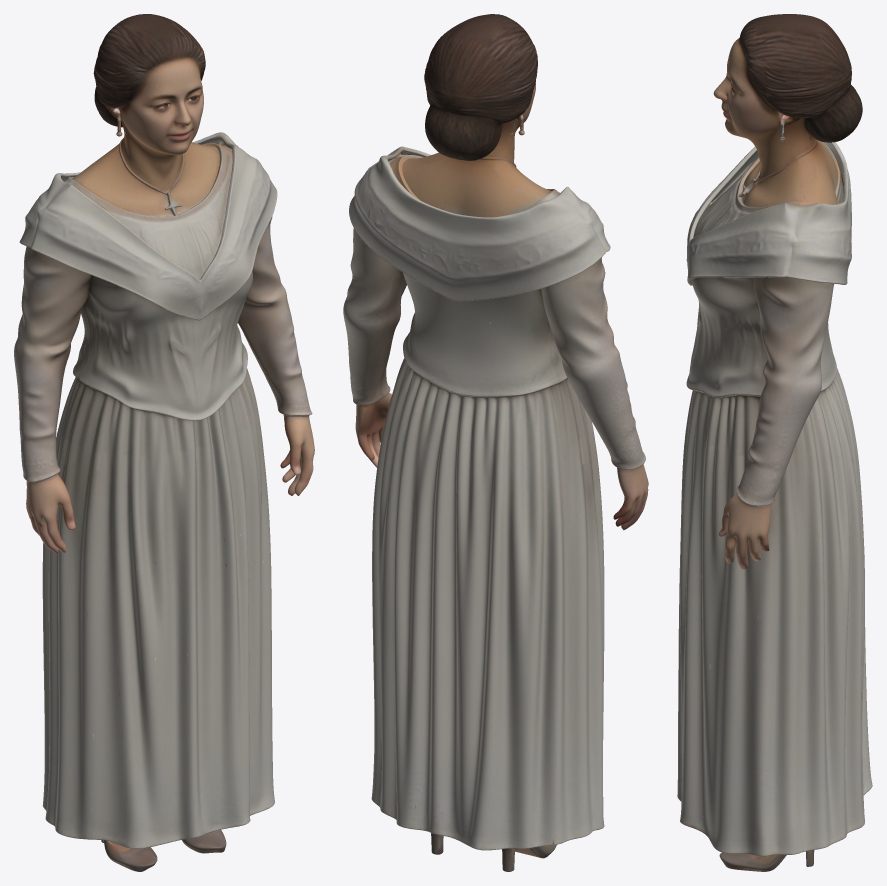
Rendered from nicolasa.glb.
3 renders of one model, left to right at view 1: azimuth 30°, elevation 25°; view 2: azimuth 150°, elevation 25°; view 3: azimuth 270°, elevation 25°, orthographic.
Bounding box in the file's own units: 0.4295 × 1.19 × 0.2535.
1 material, 1 textured.
